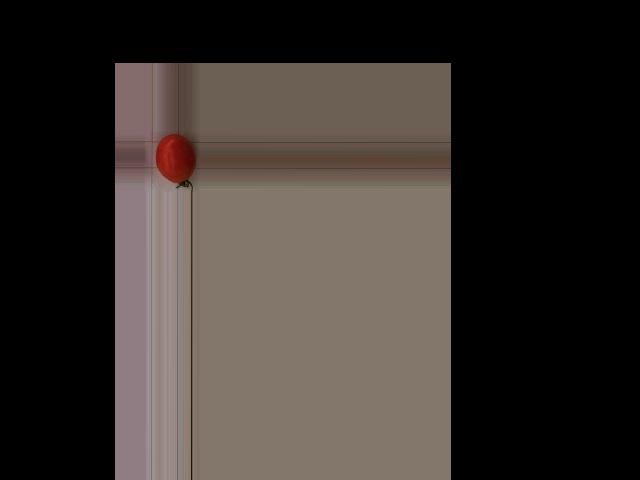tomato: (155, 134, 195, 183)
